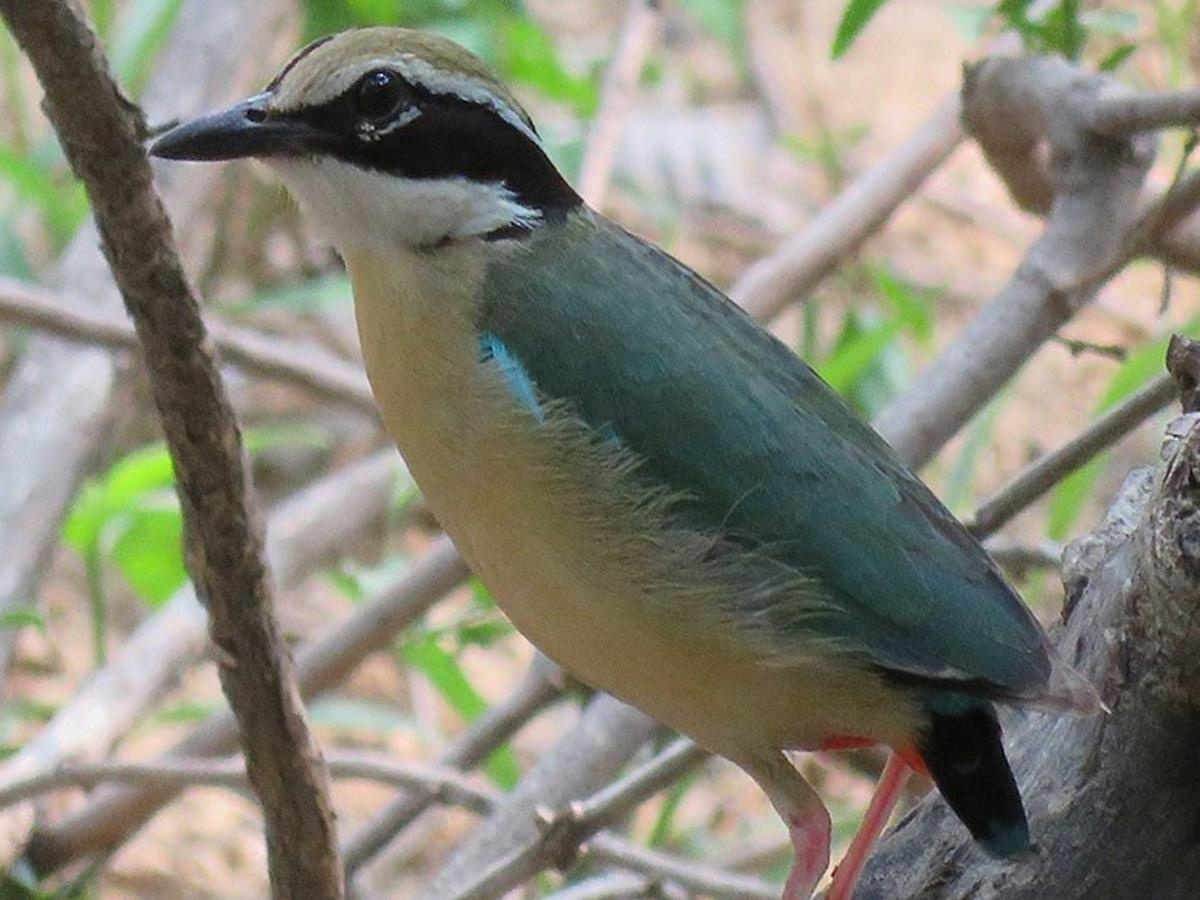pitta: (163, 24, 1063, 890)
